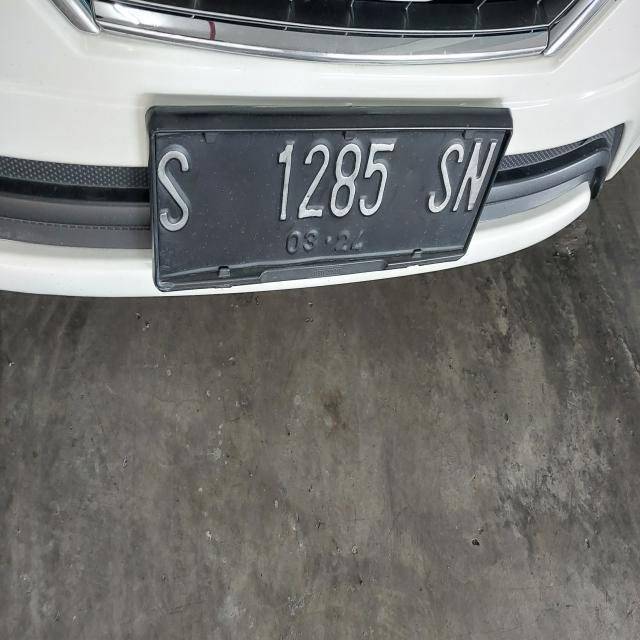1: (264, 125, 296, 231)
2: (296, 133, 332, 234)
5: (356, 116, 398, 235)
8: (327, 124, 364, 235)
N: (456, 124, 502, 233)
S: (148, 134, 202, 252), (427, 124, 469, 236)
